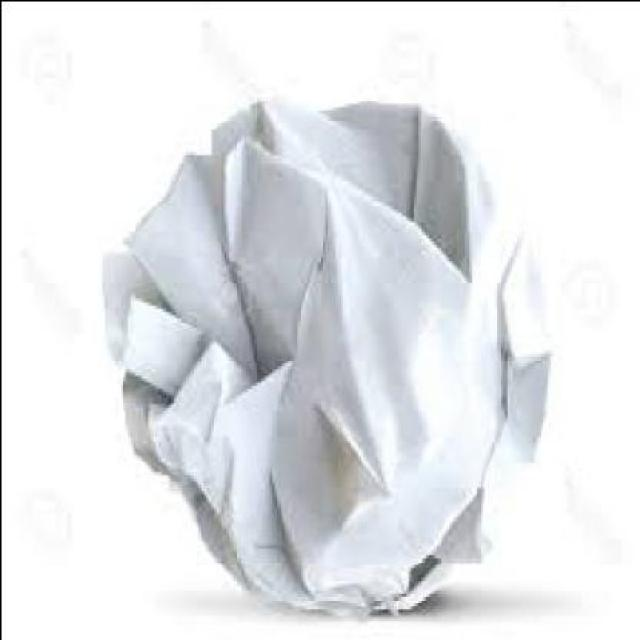paper: (106, 91, 554, 612)
